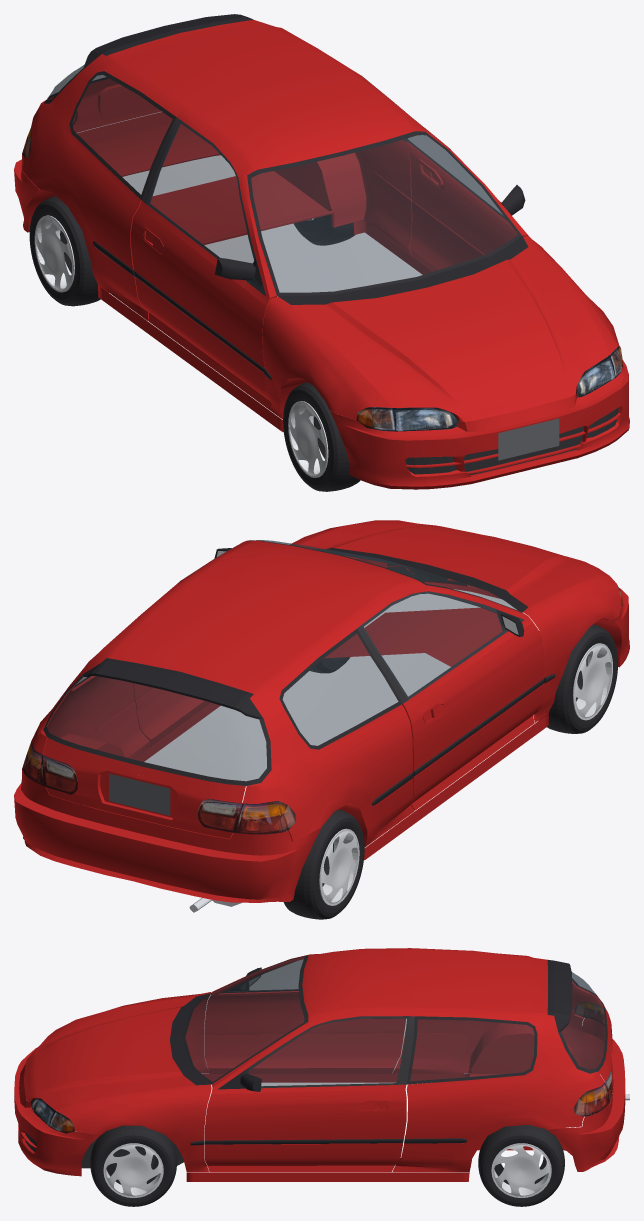
Rendered from honda_civic_eg6_1991.glb.
3 renders of one model, top to bottom at view 1: azimuth 30°, elevation 25°; view 2: azimuth 150°, elevation 25°; view 3: azimuth 270°, elevation 25°, orthographic. The views are drawn at different scales.
Parts seen in each view (by area): view 1: mainbody_Plane.001, frontbumper.001_Plane.013, mainbody.001_Plane.004, frontbumper_Plane.002, mainbody.002_Plane.010, front_fender_Plane.007, mainbody.003_Plane.011, rear_bumper_Plane.008, Circle.003, Circle.002, sideskirt_Plane.006, mainbody.005_Plane.019 (+10 smaller); view 2: mainbody_Plane.001, rear_bumper_Plane.008, trunk.001_Plane.012, front_fender_Plane.007, frontbumper.001_Plane.013, mainbody.002_Plane.010, mainbody.003_Plane.011, trunk_Plane.009, Circle.003, Circle.002, mainbody.004_Plane.017, spoiler_Plane.005 (+8 smaller); view 3: mainbody_Plane.001, frontbumper.001_Plane.013, mainbody.001_Plane.004, mainbody.002_Plane.010, front_fender_Plane.007, mainbody.003_Plane.011, Circle.001, Circle, rear_bumper_Plane.008, sideskirt_Plane.006, frontbumper_Plane.002, trunk.001_Plane.012 (+9 smaller).
Boxes of the visible parts, box(x1,y1,x2,y2) form: mainbody_Plane.001: box(22, 20, 528, 408); frontbumper.001_Plane.013: box(291, 247, 609, 421); mainbody.001_Plane.004: box(247, 131, 521, 295); frontbumper_Plane.002: box(330, 359, 629, 489); mainbody.002_Plane.010: box(147, 120, 502, 296); front_fender_Plane.007: box(262, 236, 620, 419); mainbody.003_Plane.011: box(69, 71, 176, 199); rear_bumper_Plane.008: box(14, 112, 281, 232); Circle.003: box(29, 195, 100, 306); Circle.002: box(283, 382, 360, 491); sideskirt_Plane.006: box(98, 220, 431, 432); mainbody.005_Plane.019: box(277, 236, 528, 304); mainbody_Plane.001: box(31, 540, 545, 847); rear_bumper_Plane.008: box(14, 769, 321, 902); trunk.001_Plane.012: box(43, 674, 271, 785); front_fender_Plane.007: box(290, 526, 621, 723); frontbumper.001_Plane.013: box(298, 520, 609, 606); mainbody.002_Plane.010: box(361, 591, 523, 699); mainbody.003_Plane.011: box(74, 629, 402, 749); trunk_Plane.009: box(43, 738, 245, 838); Circle.003: box(283, 809, 364, 919); Circle.002: box(536, 624, 617, 733); mainbody.004_Plane.017: box(22, 741, 295, 834); spoiler_Plane.005: box(83, 658, 263, 718); mainbody_Plane.001: box(204, 948, 604, 1172); frontbumper.001_Plane.013: box(24, 996, 195, 1110); mainbody.001_Plane.004: box(182, 955, 308, 1084); mainbody.002_Plane.010: box(236, 960, 408, 1086); front_fender_Plane.007: box(56, 992, 211, 1172); mainbody.003_Plane.011: box(406, 1016, 537, 1084); Circle.001: box(478, 1124, 564, 1206); Circle: box(90, 1125, 176, 1206); rear_bumper_Plane.008: box(546, 1018, 625, 1171); sideskirt_Plane.006: box(186, 1073, 469, 1181); frontbumper_Plane.002: box(14, 1047, 100, 1176); trunk.001_Plane.012: box(558, 972, 607, 1073).
Bounding box in the file's own units: 3.64 × 2.66 × 8.2.
Materials: 11 (1 with a texture image).
